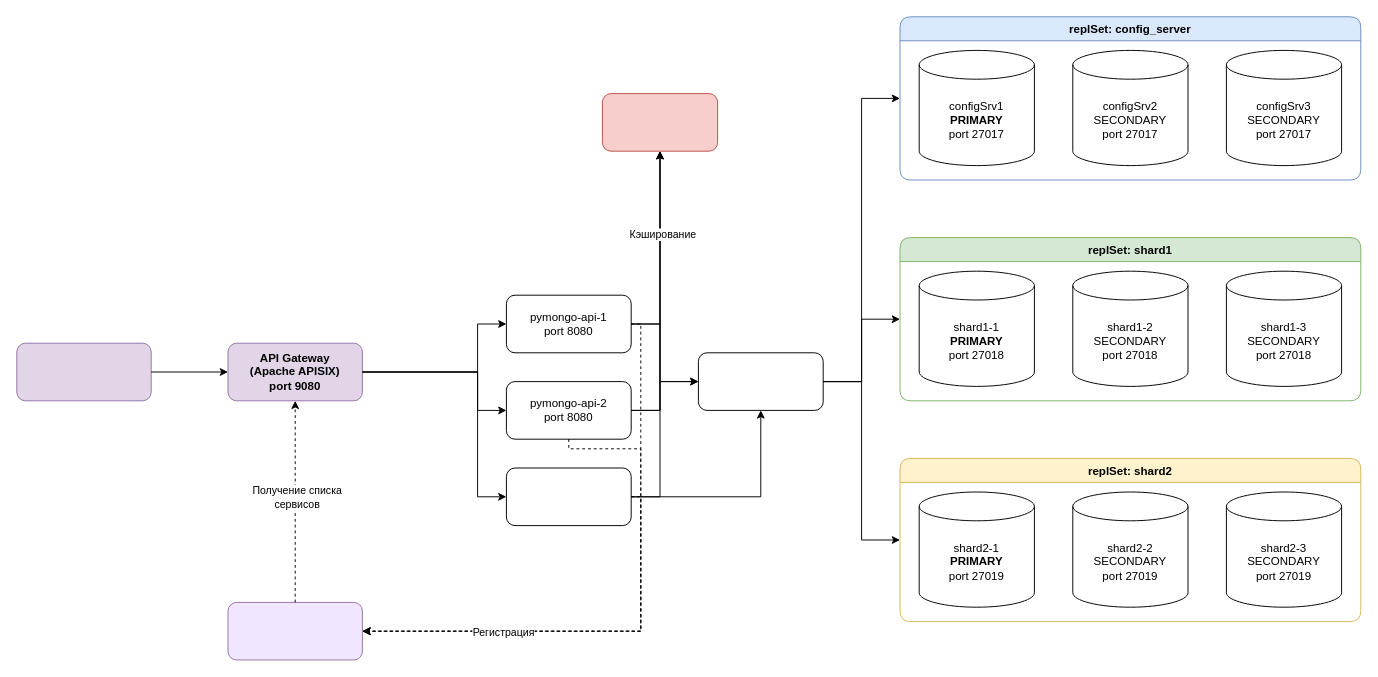
Image size: 1378x677. Some labels were removed from this diagram. The centre of each missing label's shape, as x and y in pixels:
"Consul Service Discovery port 8500" belongs at (294,630).
"mongos_router mongos port 27020" belongs at (760,381).
"nginx Reverse Proxy port 80" belongs at (83,371).
"pymongo-api-3 port 8080" belongs at (568,496).
"redis Redis Cache port 6379" belongs at (659,122).
